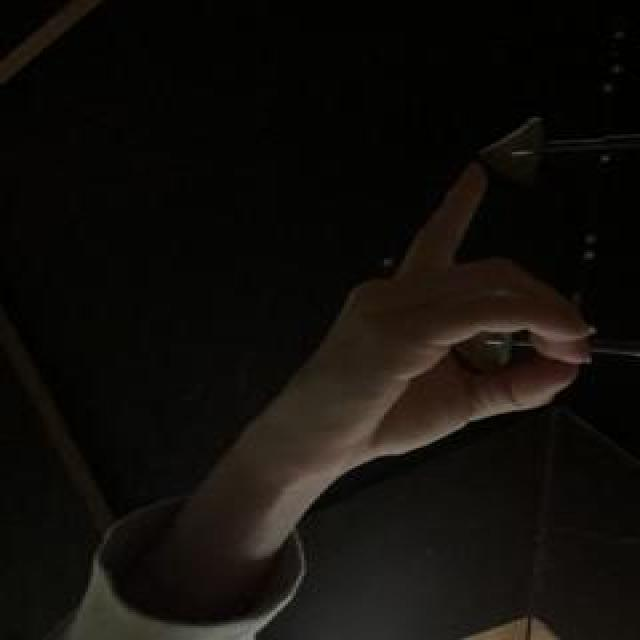D: (255, 157, 601, 473)
